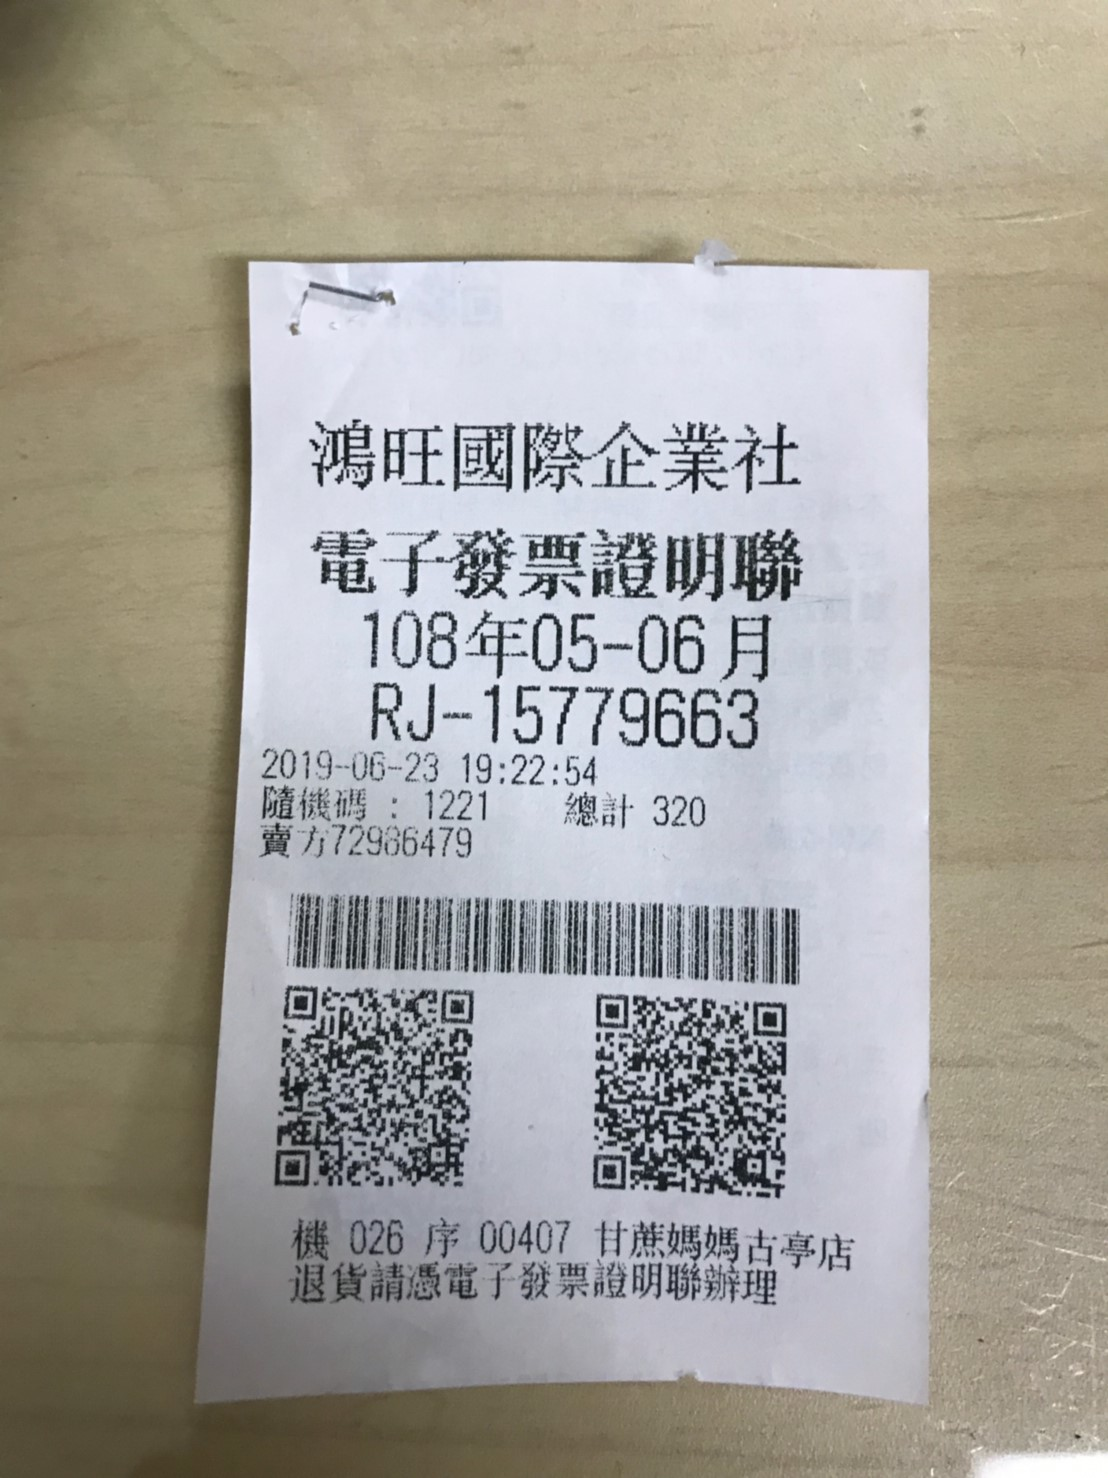Date_New: (358, 603, 777, 684)
Number_New: (480, 678, 766, 748)
